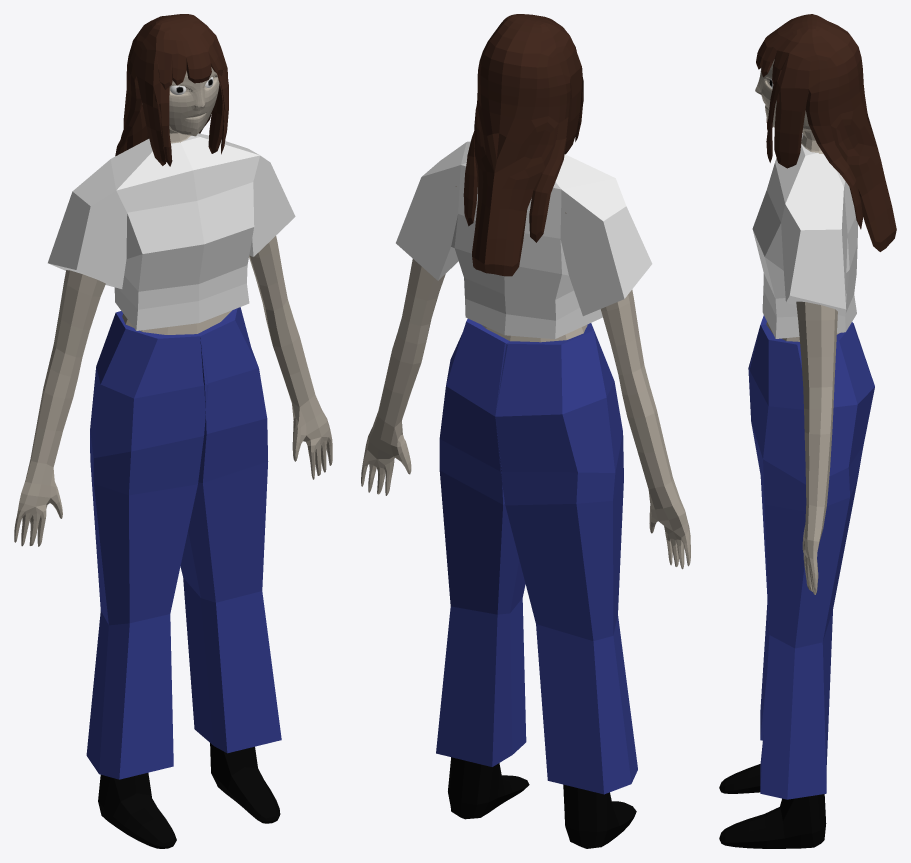
The model's file is female4.fbx.
The picture shows the model from 3 angles, left to right: view 1: azimuth 30°, elevation 25°; view 2: azimuth 150°, elevation 25°; view 3: azimuth 270°, elevation 25°; orthographic projection. The views are drawn at different scales.
Parts seen in each view (by area): view 1: pants_female, t-shirt_male, human, long hair; view 2: pants_female, t-shirt_male, long hair, human; view 3: pants_female, long hair, t-shirt_male, human.
Boxes of the visible parts, x1,y1,x2,y2 form: pants_female: (86,307,281,779); t-shirt_male: (48,133,295,330); human: (14,67,332,848); long hair: (115,14,228,166); pants_female: (436,318,637,794); t-shirt_male: (396,141,652,339); long hair: (463,14,583,276); human: (361,186,690,848); pants_female: (748,315,874,799); long hair: (756,14,896,251); t-shirt_male: (752,134,858,338); human: (719,59,839,848).
Size of the model in its own units: 320 by 756 by 153.
Materials: 4 (1 with a texture image).
